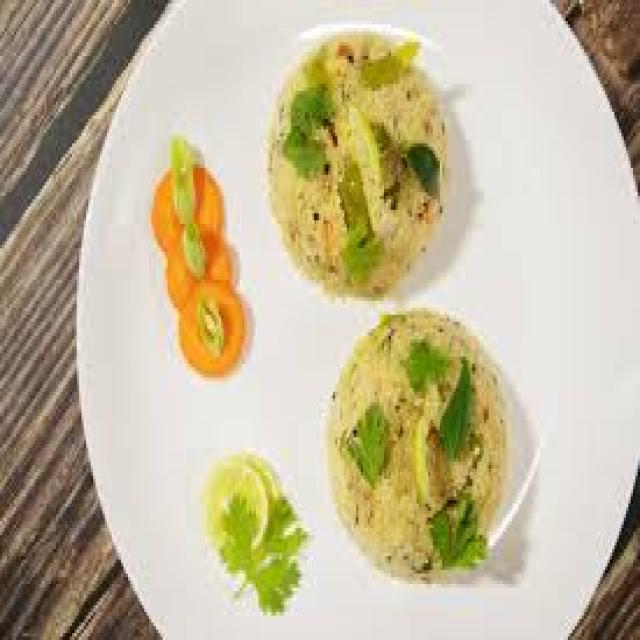UPMA: (265, 28, 445, 287), (330, 304, 507, 567)
